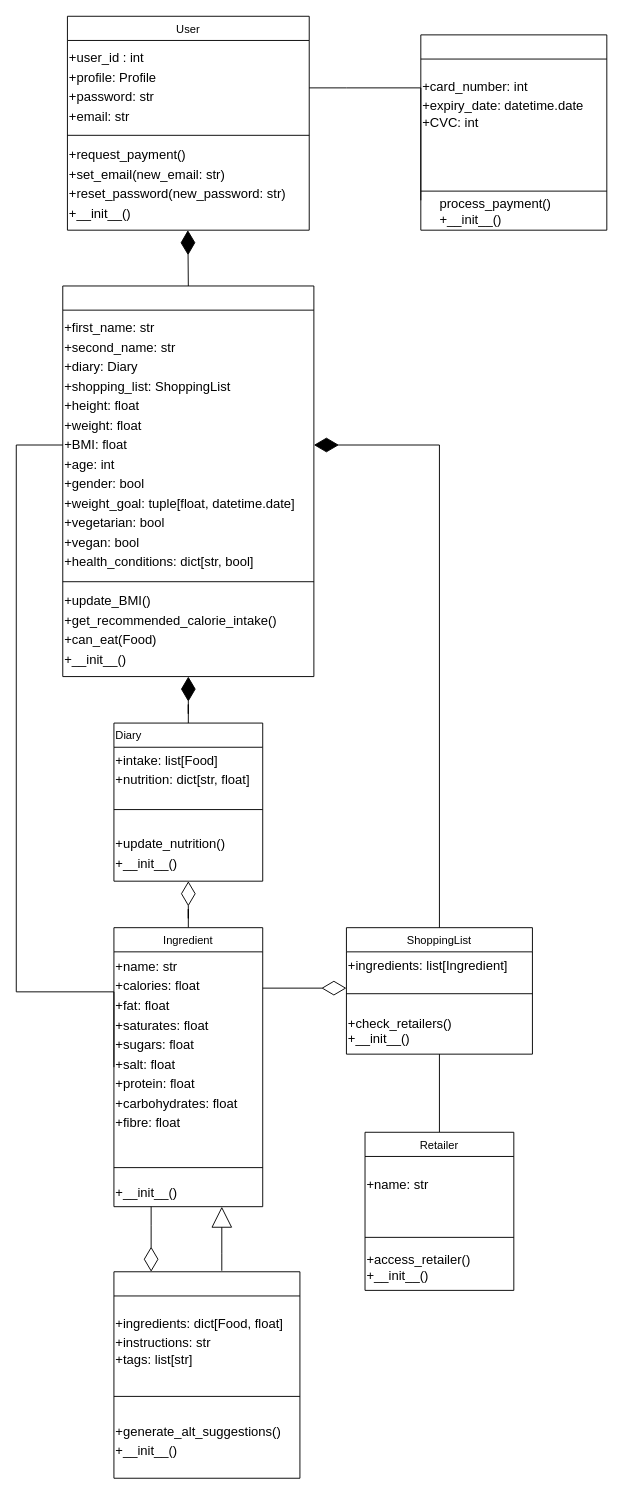
This 623x1495 diagram has some shape labels left out. Each missing label, with the box of its shape:
PaymentGateway: (420, 34, 607, 230)
Profile: (62, 285, 314, 677)
Recipe: (113, 1271, 300, 1478)
